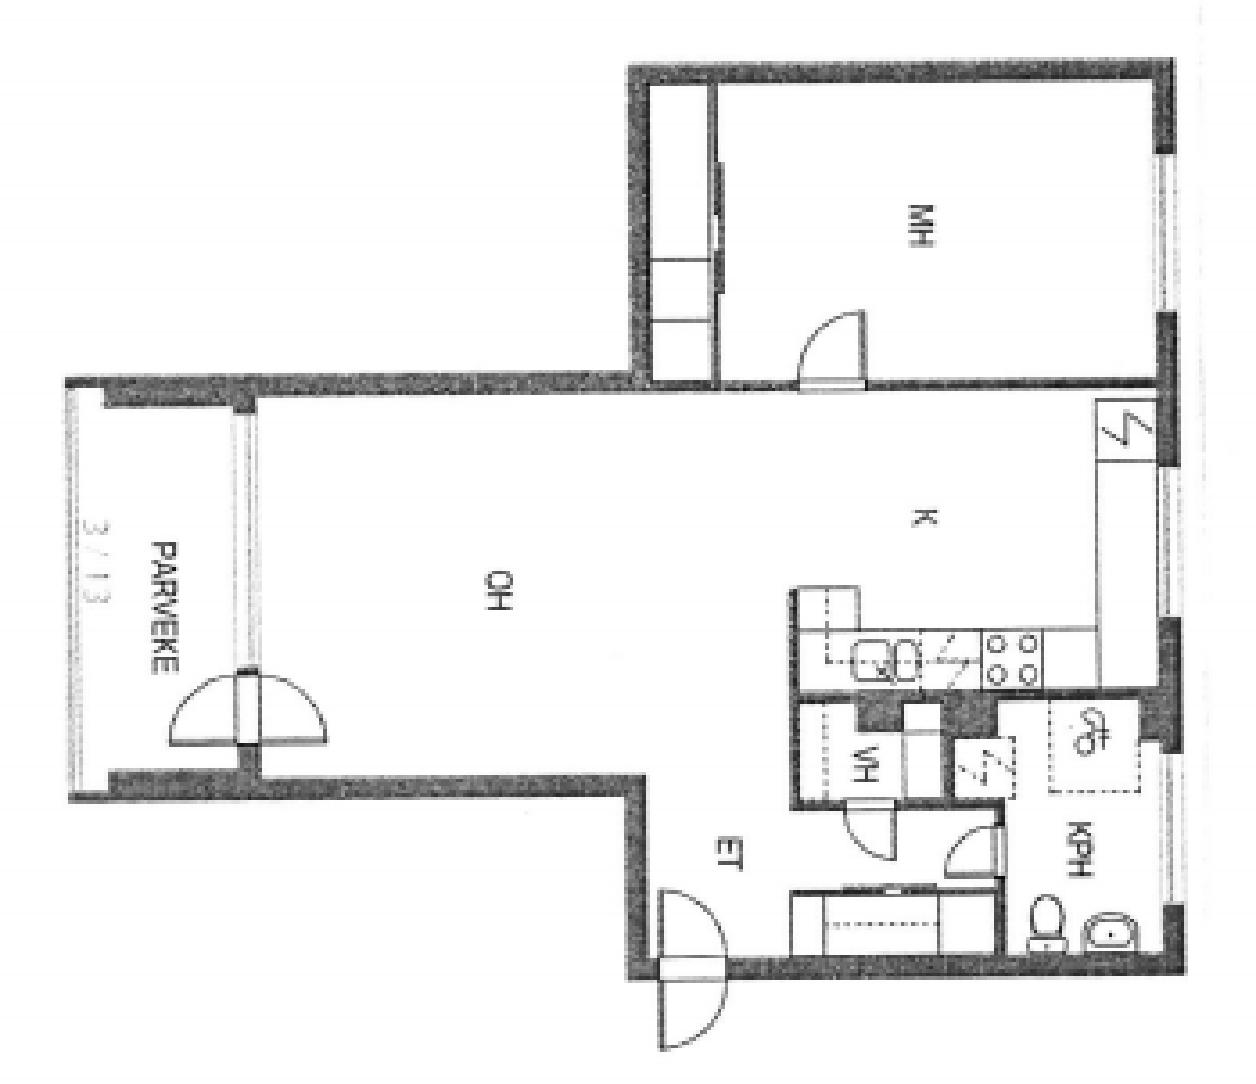door: (164, 669, 328, 749), (656, 884, 731, 1056), (792, 310, 865, 390), (842, 796, 899, 867), (943, 824, 1006, 884)
window: (230, 411, 264, 672), (1157, 751, 1190, 904), (1152, 152, 1182, 307), (1158, 466, 1181, 614)
zone: (256, 391, 1169, 956), (651, 77, 1160, 381), (68, 384, 241, 788), (957, 698, 1169, 958), (798, 703, 945, 800)
